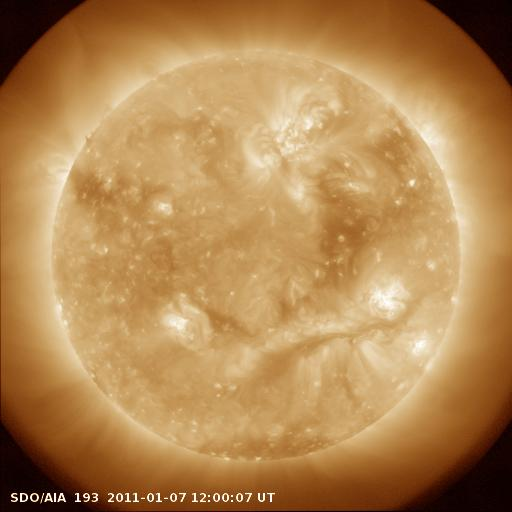coronal_hole: (309, 170, 380, 283), (371, 111, 441, 180), (194, 435, 333, 458), (60, 163, 120, 207)
